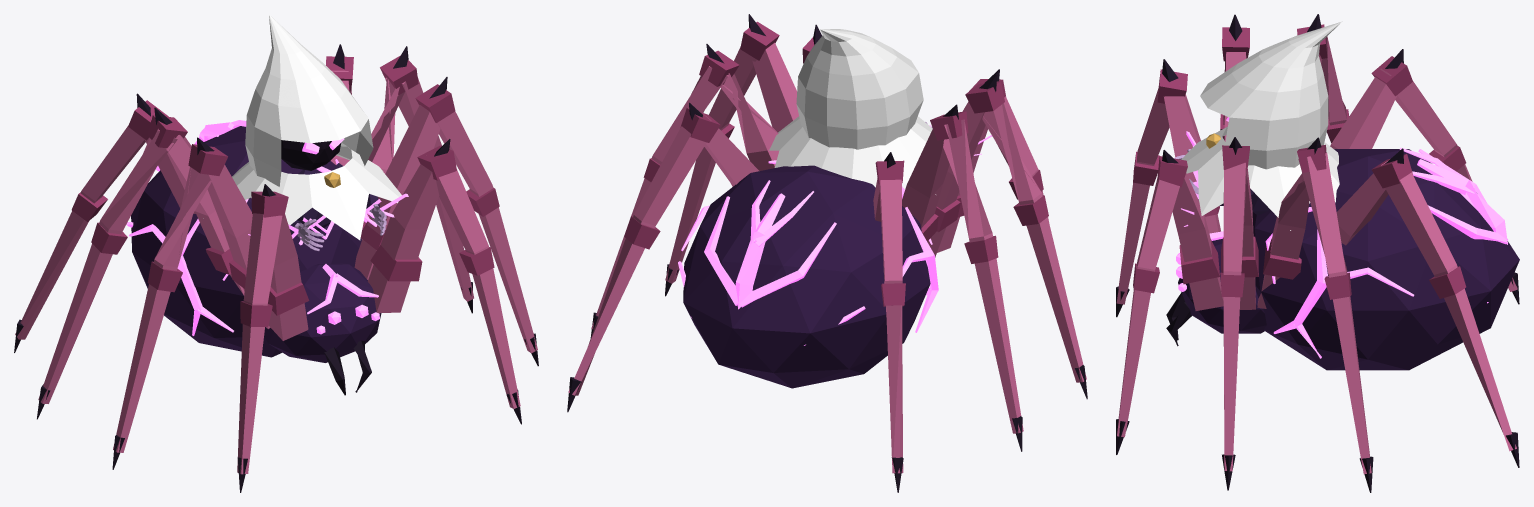
File: weaver.glb
3 renders of one model, left to right at view 1: azimuth 30°, elevation 25°; view 2: azimuth 150°, elevation 25°; view 3: azimuth 270°, elevation 25°, orthographic.
Parts seen in each view (by area): view 1: legs, abdomen, hood, cape, cephalothorax, claws, veins, face, spiderEyes, fangs, threads; view 2: legs, abdomen, hood, veins, cape, claws; view 3: legs, abdomen, hood, veins, cape, claws, cephalothorax, fangs.
Boxes of the visible parts, <box> form: legs: <box>15,55,537,474</box>; abdomen: <box>131,126,361,357</box>; hood: <box>245,14,373,186</box>; cape: <box>203,142,401,240</box>; cephalothorax: <box>264,263,381,362</box>; claws: <box>14,44,538,492</box>; veins: <box>126,120,368,335</box>; face: <box>281,140,341,170</box>; spiderEyes: <box>307,264,379,334</box>; fangs: <box>324,340,371,395</box>; threads: <box>248,193,408,245</box>; legs: <box>568,21,1086,473</box>; abdomen: <box>683,165,930,388</box>; hood: <box>796,29,923,149</box>; veins: <box>678,160,938,345</box>; cape: <box>769,116,935,194</box>; claws: <box>567,14,1087,492</box>; legs: <box>1116,24,1517,474</box>; abdomen: <box>1252,149,1519,370</box>; hood: <box>1200,21,1341,169</box>; veins: <box>1265,147,1507,358</box>; cape: <box>1181,126,1339,230</box>; claws: <box>1116,14,1519,492</box>; cephalothorax: <box>1178,238,1266,333</box>; fangs: <box>1166,292,1191,346</box>.
Size of the model in its own units: 1.6 by 1.27 by 1.28.
